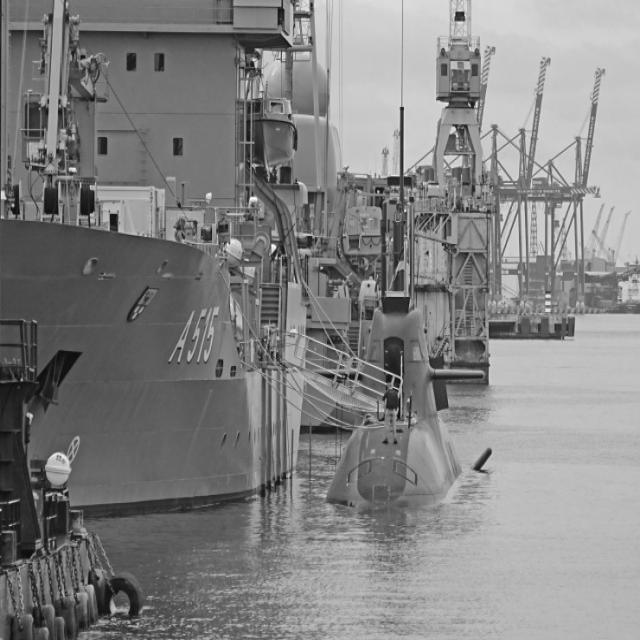submarine: (330, 190, 486, 510)
